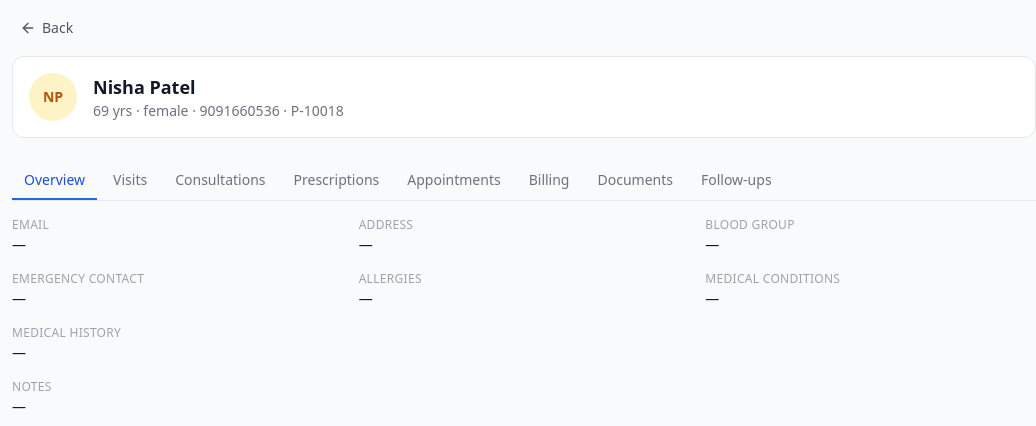
Patient profile - Follow-ups tab › lists follow-ups with their status and the doctor's instructions
Click the tab "Follow-ups": (736, 181) [689,162,784,200]
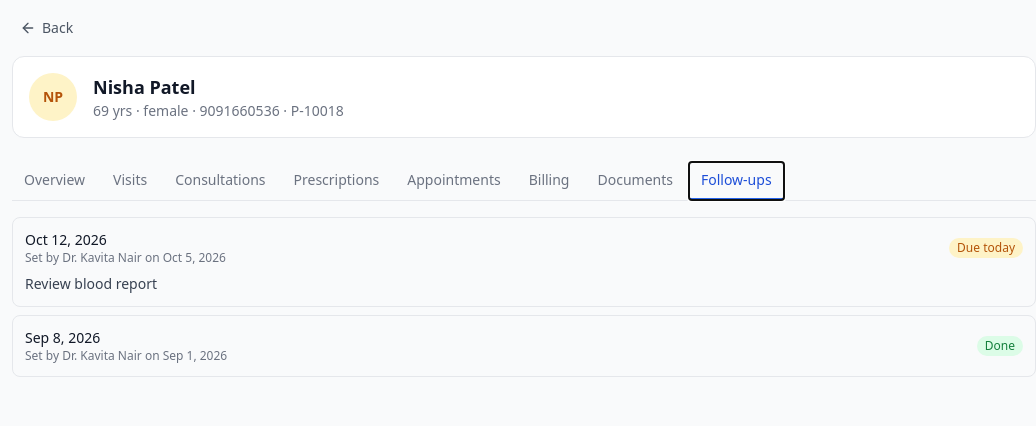
Expected: the text "Due today" is shown, [949,238,1023,258]
Expected: the text "Done" is shown, [977,336,1023,356]
Expected: the text "Review blood report" is shown, [25,274,157,293]
